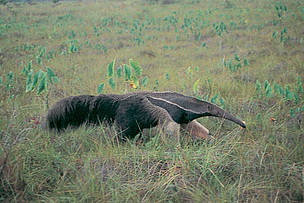TamanduaBandeira: (42, 90, 248, 146)
